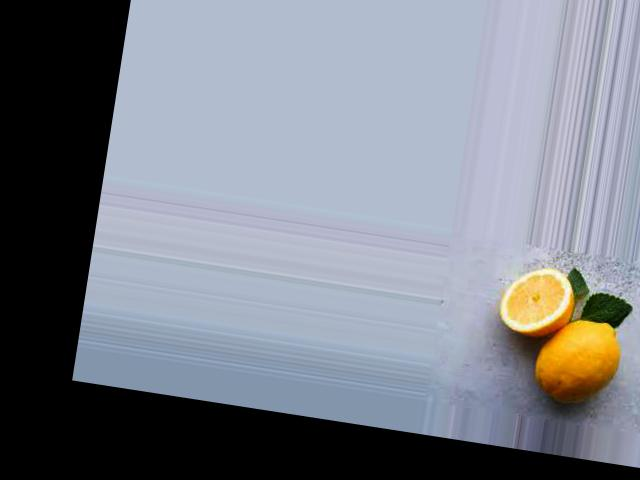lemon: (525, 292, 632, 424)
